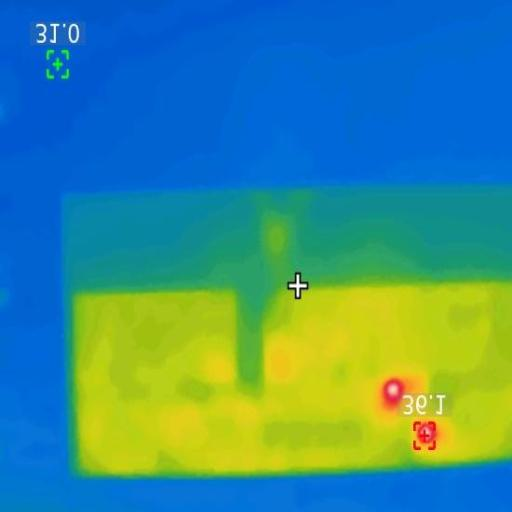hotspot: (384, 379, 404, 404), (418, 420, 437, 442)
